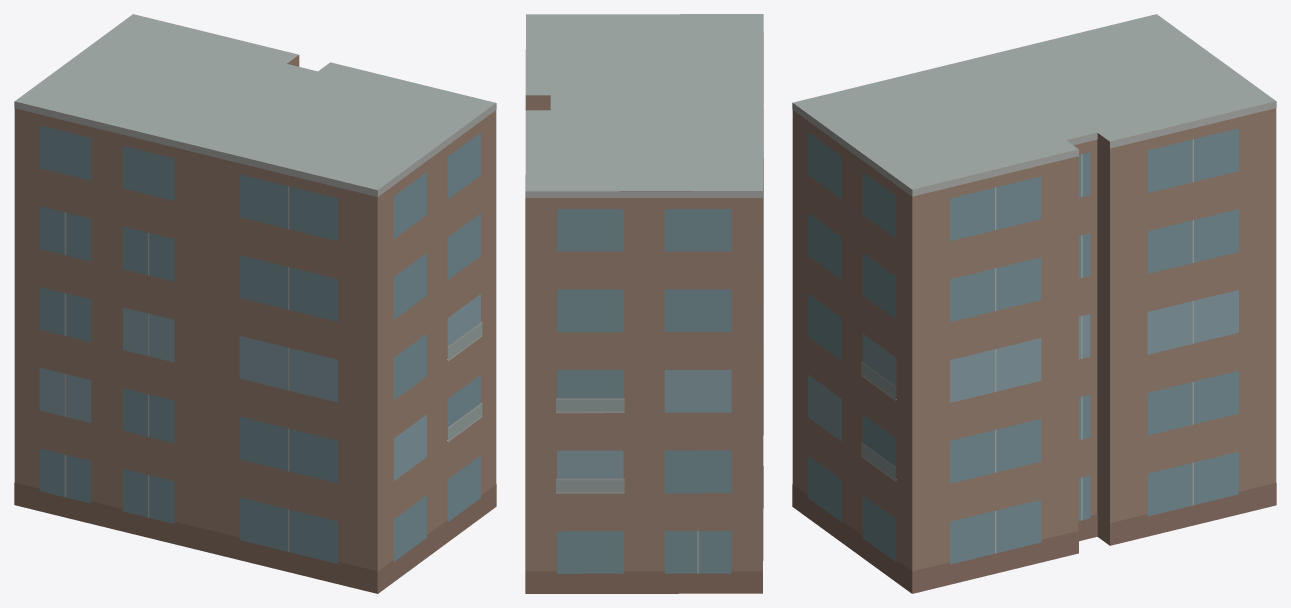
The model's file is survey-upis-32612101.glb.
The picture shows the model from 3 angles, left to right: view 1: azimuth 30°, elevation 25°; view 2: azimuth 150°, elevation 25°; view 3: azimuth 270°, elevation 25°; orthographic projection.
Parts seen in each view (by area): view 1: survey-upis-32612101.tmp; view 2: survey-upis-32612101.tmp; view 3: survey-upis-32612101.tmp.
Boxes of the visible parts, x1=… form: survey-upis-32612101.tmp: x1=14, y1=14, x2=496, y2=593; survey-upis-32612101.tmp: x1=525, y1=14, x2=763, y2=593; survey-upis-32612101.tmp: x1=792, y1=14, x2=1276, y2=593.
Size of the model in its own units: 13.35 by 14.3 by 15.53.
